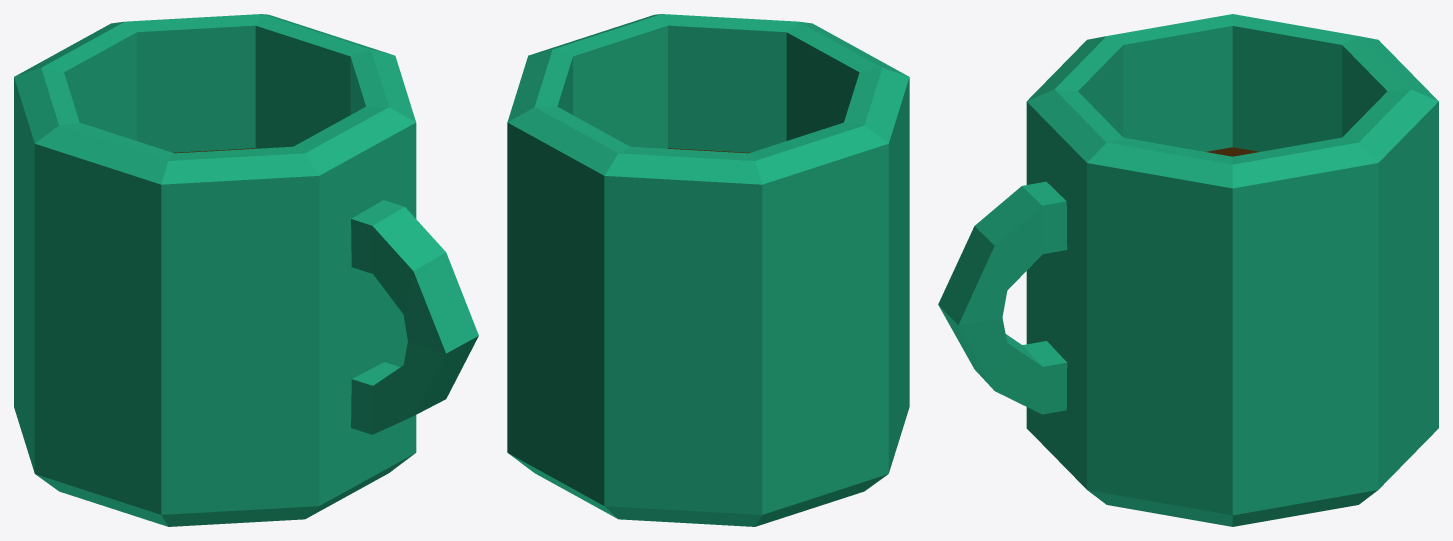
File: Green_Mug.fbx
3 views of the same model, side by side, from view 1: azimuth 30°, elevation 25°; view 2: azimuth 150°, elevation 25°; view 3: azimuth 270°, elevation 25° (orthographic).
Parts seen in each view (by area): view 1: Green_Mug; view 2: Green_Mug; view 3: Green_Mug.
Boxes of the visible parts, x1=… form: Green_Mug: x1=14, y1=14, x2=478, y2=526; Green_Mug: x1=507, y1=14, x2=909, y2=526; Green_Mug: x1=938, y1=14, x2=1438, y2=526.
Bounding box in the file's own units: 54.77 × 53.12 × 66.53.
